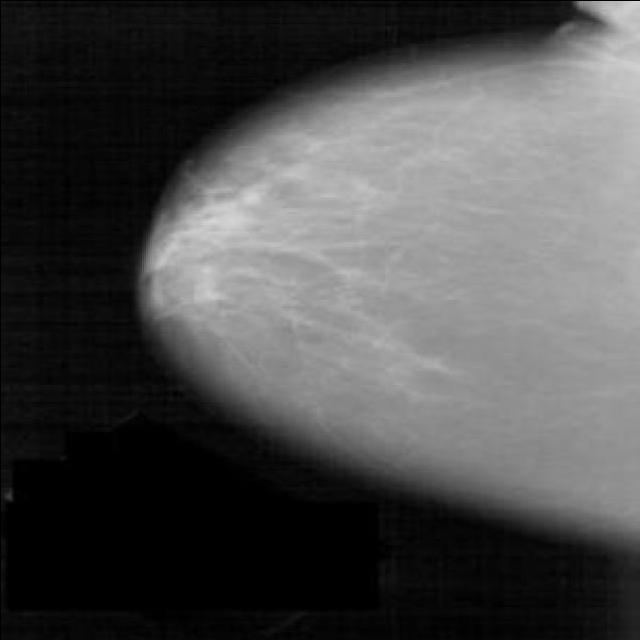tumor: (154, 176, 262, 330)
